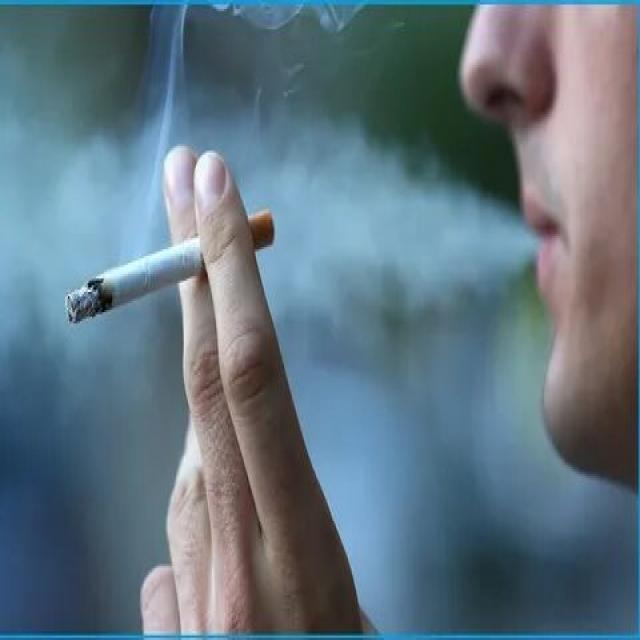smoke: (63, 202, 277, 330)
